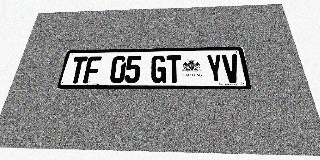0: (109, 56, 127, 83)
5: (124, 56, 141, 83)
F: (83, 56, 102, 83)
G: (150, 55, 166, 83)
T: (68, 57, 88, 83), (166, 55, 182, 83)
V: (221, 54, 241, 83)
Y: (206, 54, 224, 83)
